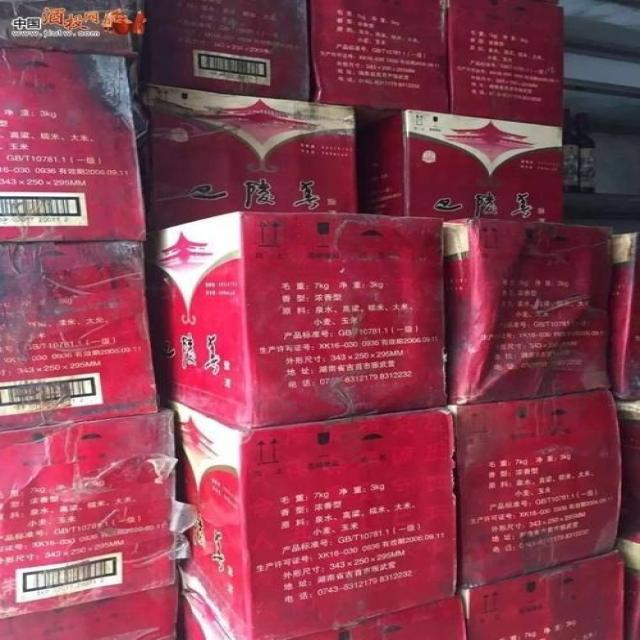box: (160, 396, 457, 639), (145, 211, 448, 430), (1, 404, 201, 618), (131, 86, 357, 233), (456, 389, 622, 585), (443, 215, 612, 407), (0, 242, 159, 431), (1, 46, 145, 241), (355, 110, 563, 221), (129, 0, 308, 99), (310, 0, 449, 111), (458, 552, 625, 640), (449, 0, 564, 126), (0, 585, 178, 639), (291, 594, 466, 640), (0, 0, 145, 55), (608, 234, 640, 400), (617, 517, 640, 639), (617, 399, 640, 512)
